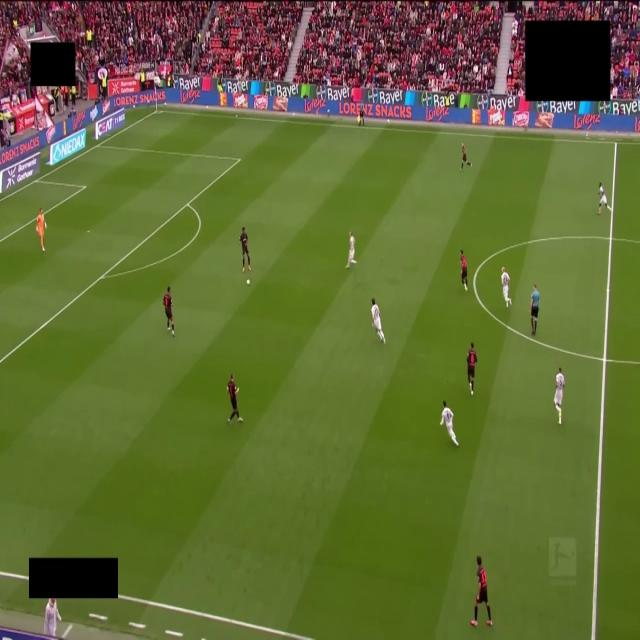ball: (247, 280, 249, 285)
player: (471, 556, 492, 626), (441, 401, 458, 447), (228, 374, 242, 423), (371, 298, 385, 343), (554, 368, 564, 424), (239, 227, 251, 272), (163, 287, 174, 336), (467, 343, 477, 395), (36, 208, 46, 251), (598, 183, 611, 215), (501, 267, 511, 307), (347, 232, 356, 268), (460, 250, 467, 290), (461, 144, 471, 170)
referee: (531, 285, 539, 335)
